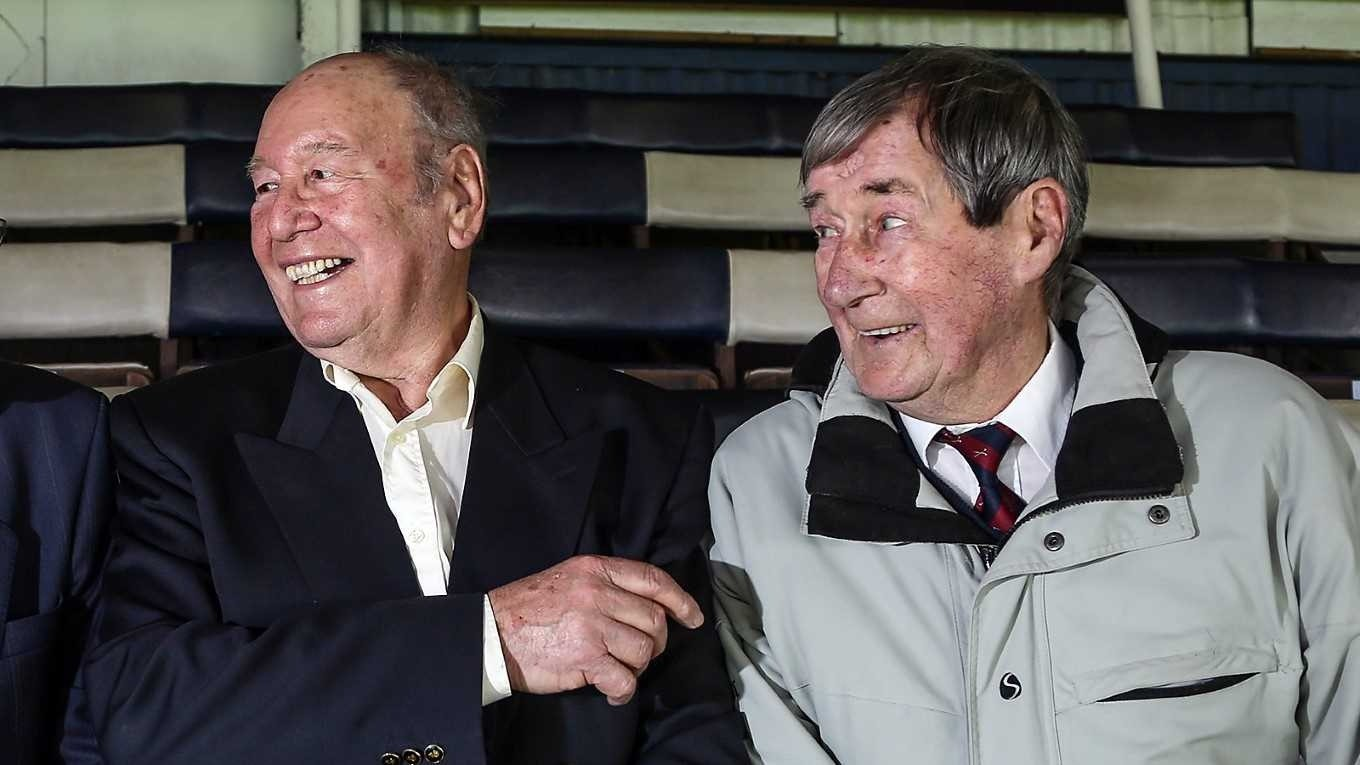face_no_mask: (798, 52, 1084, 402), (248, 47, 485, 356)
